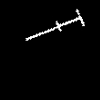double_crochet: (26, 10, 84, 39)
